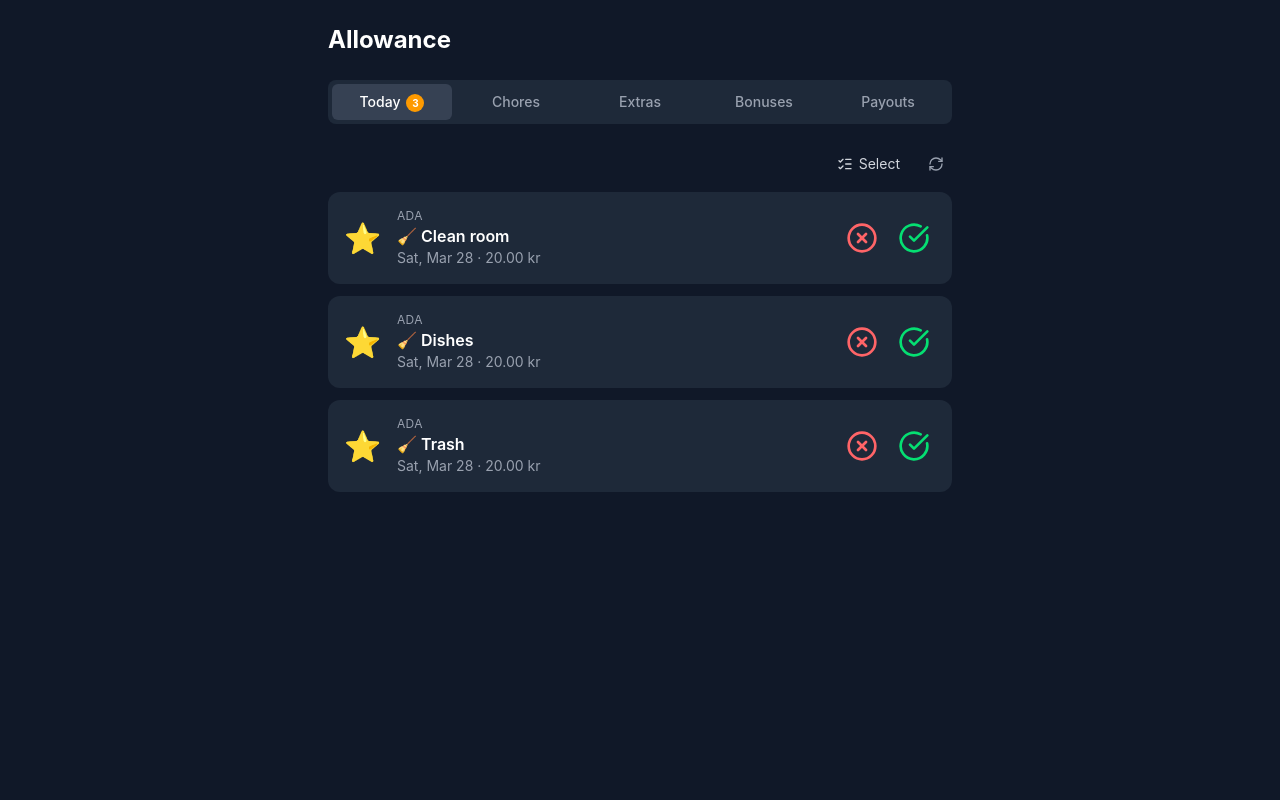
AllowancePage bulk approval › rejects the selection with one shared reason from the dialog
expect the text "🧹 Clean room" is shown: met, box 397,226 -> 510,246
Click the button "Select" at (868, 164), box 825,148 -> 912,180
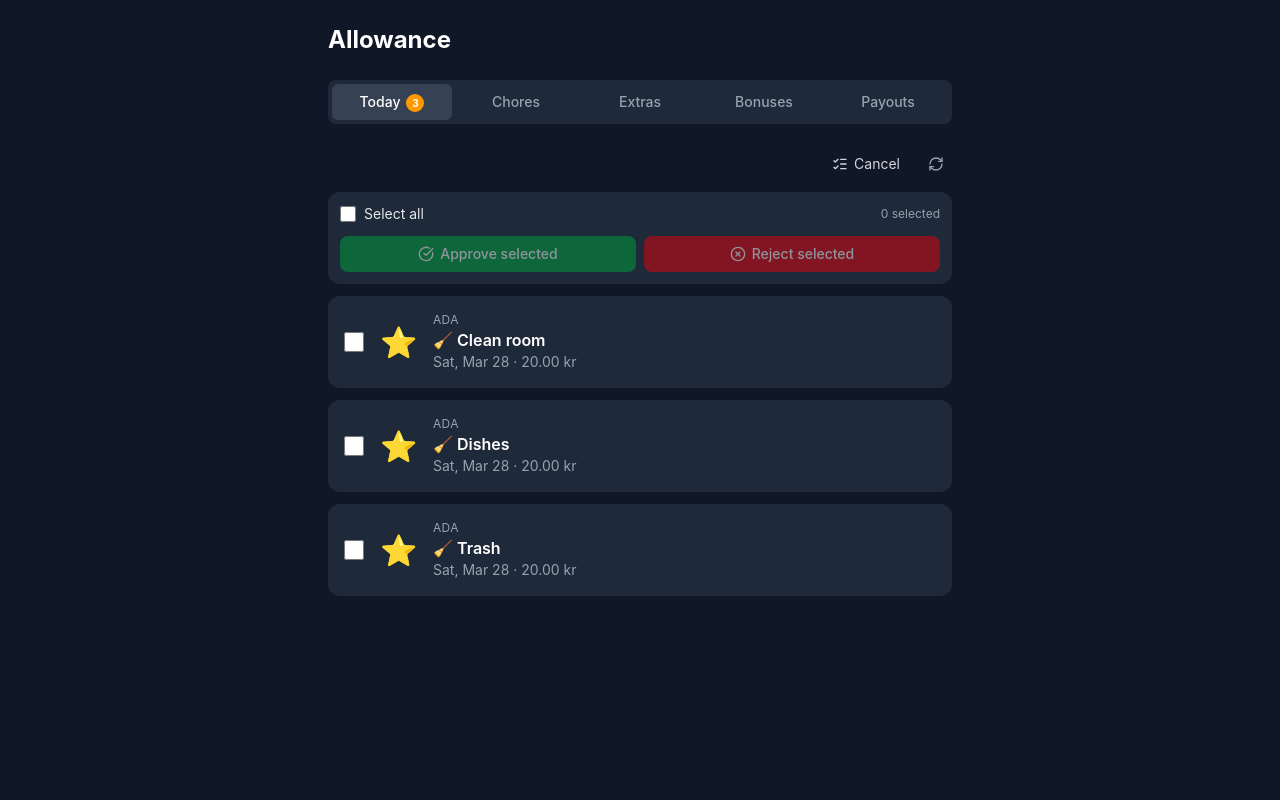
Click the checkbox named "Select Clean room" at (354, 342), box 344,332 -> 364,352
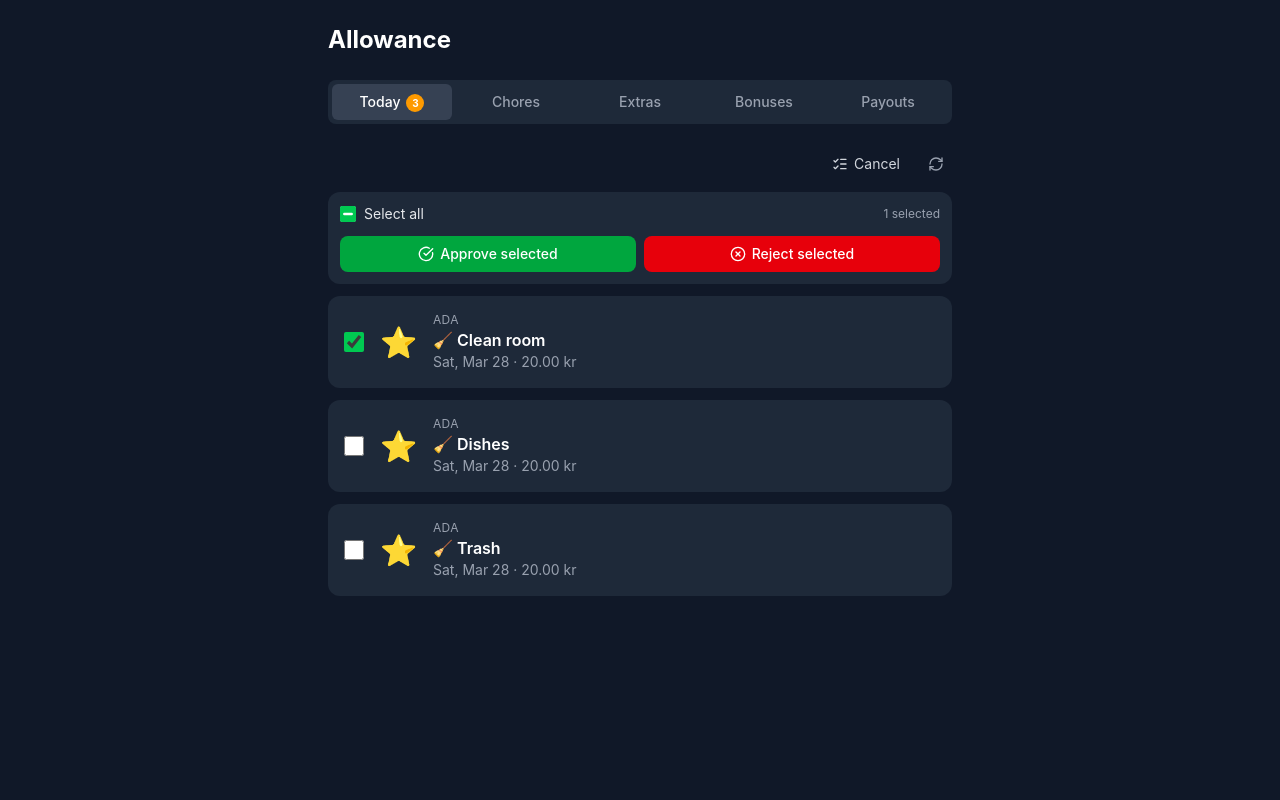
Click the checkbox named "Select Trash" at (354, 550), box 344,540 -> 364,560
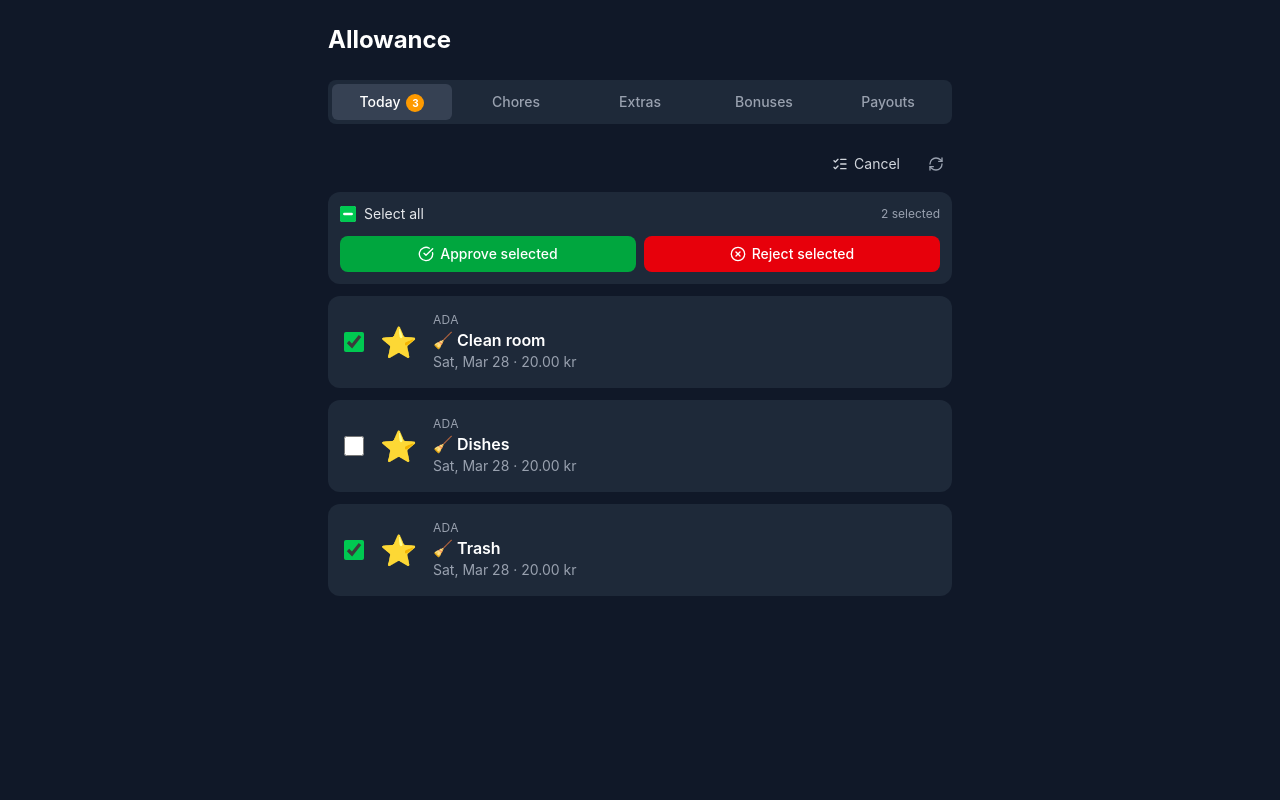
Click the button "Reject selected" at (792, 254), box 644,236 -> 940,272
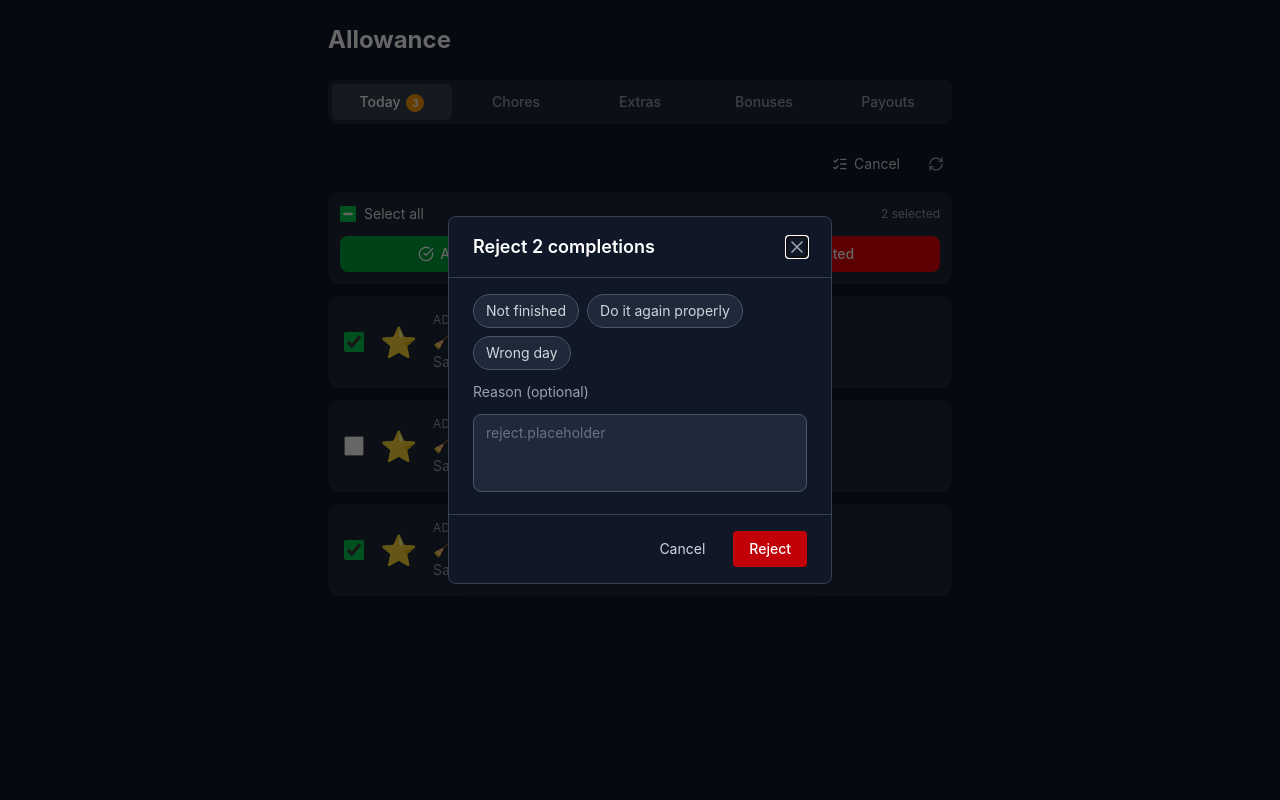
Type "  Not finished  " into the text box labelled "Reason (optional)" at (640, 453), box 473,414 -> 807,492
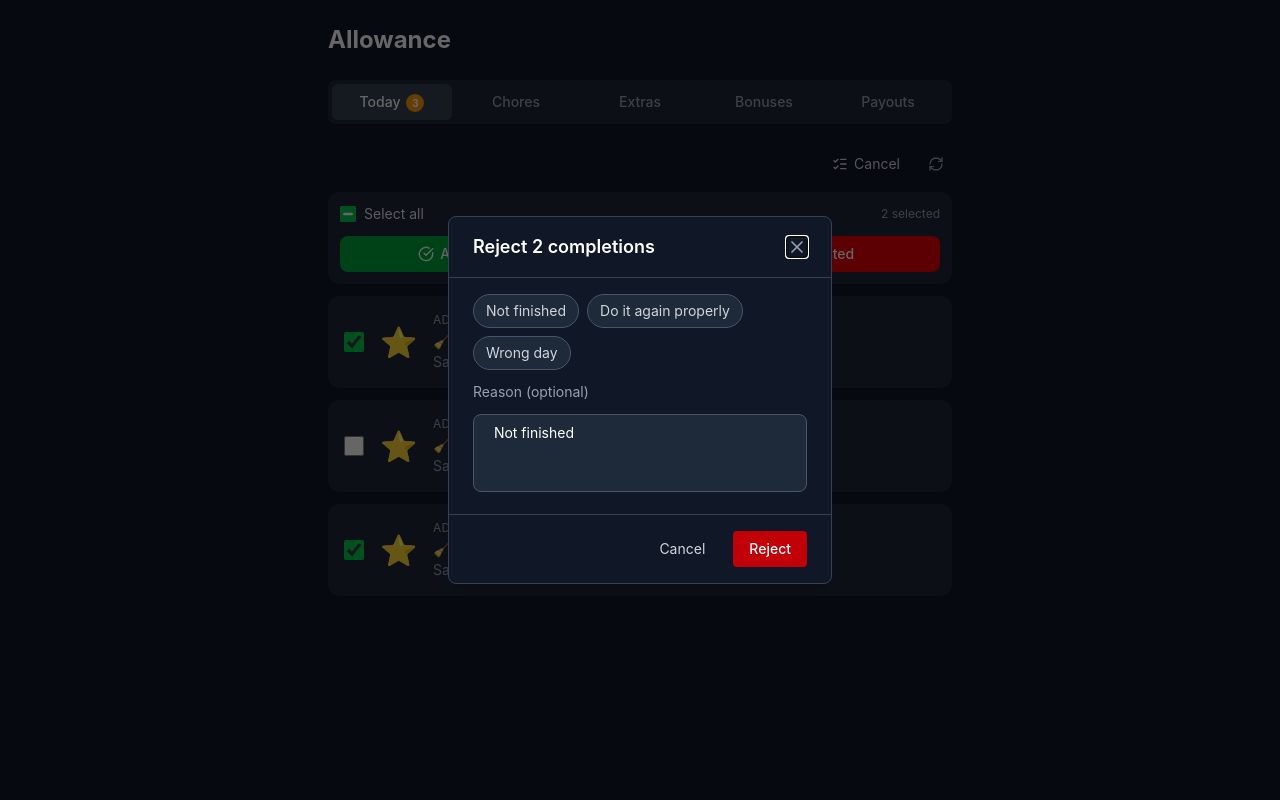
Click the button "Reject" at (770, 549), box 733,531 -> 807,567
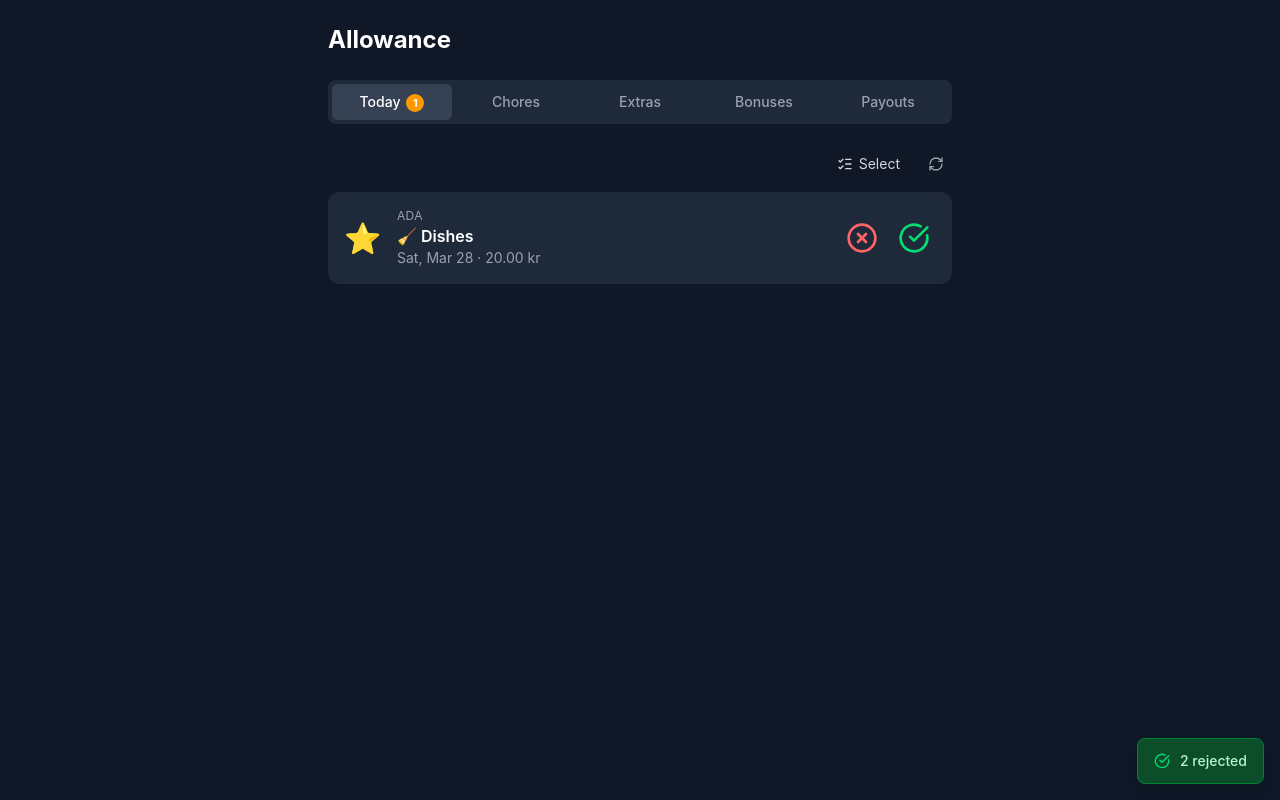
expect the text "🧹 Dishes" is shown: met, box 397,226 -> 474,246
expect the text "2 rejected" is shown: met, box 1137,738 -> 1264,784
expect the text "Clean room" is gone: met
